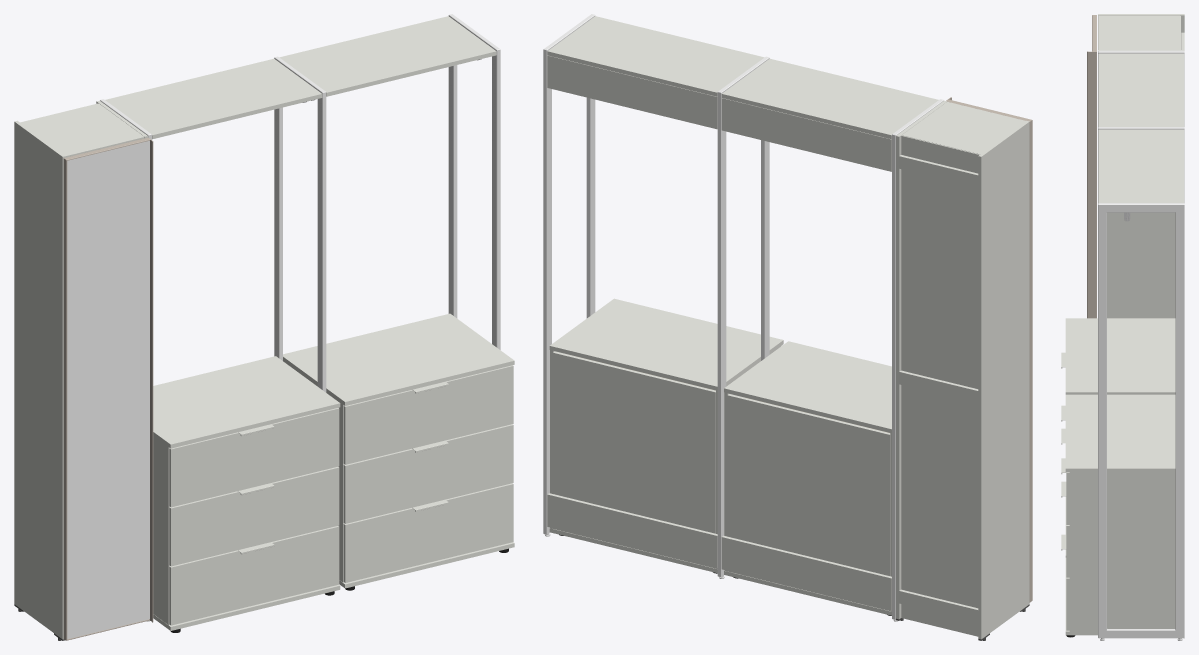
File: dr_sys_m.glb
The picture shows the model from 3 angles, left to right: view 1: azimuth 30°, elevation 25°; view 2: azimuth 150°, elevation 25°; view 3: azimuth 270°, elevation 25°; orthographic projection. The views are drawn at different scales.
Parts seen in each view (by area): view 1: node_311_2_StaticMeshComponent0, node_297_2_StaticMeshComponent0, node_567_2_StaticMeshComponent0, node_730_StaticMeshComponent0, node_579_2_StaticMeshComponent0, node_749_StaticMeshComponent0, node_742_StaticMeshComponent0, node_586_2_StaticMeshComponent0, node_572_2_StaticMeshComponent0, node_735_StaticMeshComponent0, node_561_2_StaticMeshComponent0, node_724_StaticMeshComponent0 (+9 smaller); view 2: node_299_2_StaticMeshComponent0, node_297_2_StaticMeshComponent0, node_733_StaticMeshComponent0, node_570_2_StaticMeshComponent0, node_567_2_StaticMeshComponent0, node_730_StaticMeshComponent0, node_561_2_StaticMeshComponent0, node_724_StaticMeshComponent0, node_641_2_StaticMeshComponent0, node_838_2_StaticMeshComponent0, node_563_2_StaticMeshComponent0, node_726_StaticMeshComponent0 (+11 smaller); view 3: node_569_2_StaticMeshComponent0, node_838_2_StaticMeshComponent0, node_567_2_StaticMeshComponent0, node_730_StaticMeshComponent0, node_298_2_StaticMeshComponent0, node_561_2_StaticMeshComponent0, node_724_StaticMeshComponent0, node_296_2_StaticMeshComponent0, node_310_2_StaticMeshComponent0, node_648_2_StaticMeshComponent0, node_641_2_StaticMeshComponent0, node_571_2_StaticMeshComponent0 (+4 smaller).
Boxes of the visible parts, x1,y1,x2,y2 form: node_311_2_StaticMeshComponent0: [67, 140, 149, 638]; node_297_2_StaticMeshComponent0: [14, 120, 65, 639]; node_567_2_StaticMeshComponent0: [283, 313, 514, 405]; node_730_StaticMeshComponent0: [153, 356, 340, 448]; node_579_2_StaticMeshComponent0: [343, 424, 513, 523]; node_749_StaticMeshComponent0: [169, 526, 339, 625]; node_742_StaticMeshComponent0: [169, 467, 339, 566]; node_586_2_StaticMeshComponent0: [343, 483, 513, 582]; node_572_2_StaticMeshComponent0: [343, 365, 513, 464]; node_735_StaticMeshComponent0: [169, 408, 339, 507]; node_561_2_StaticMeshComponent0: [279, 16, 496, 96]; node_724_StaticMeshComponent0: [105, 58, 322, 139]; node_299_2_StaticMeshComponent0: [901, 135, 979, 636]; node_297_2_StaticMeshComponent0: [978, 120, 1029, 639]; node_733_StaticMeshComponent0: [727, 394, 890, 610]; node_570_2_StaticMeshComponent0: [553, 351, 715, 568]; node_567_2_StaticMeshComponent0: [549, 298, 783, 390]; node_730_StaticMeshComponent0: [724, 341, 891, 433]; node_561_2_StaticMeshComponent0: [547, 16, 764, 96]; node_724_StaticMeshComponent0: [721, 58, 938, 139]; node_641_2_StaticMeshComponent0: [717, 56, 769, 577]; node_838_2_StaticMeshComponent0: [543, 14, 595, 534]; node_563_2_StaticMeshComponent0: [547, 493, 717, 568]; node_726_StaticMeshComponent0: [721, 535, 891, 610]; node_569_2_StaticMeshComponent0: [1069, 472, 1175, 631]; node_838_2_StaticMeshComponent0: [1098, 203, 1184, 638]; node_567_2_StaticMeshComponent0: [1065, 394, 1175, 472]; node_730_StaticMeshComponent0: [1065, 318, 1175, 394]; node_298_2_StaticMeshComponent0: [1098, 50, 1184, 318]; node_561_2_StaticMeshComponent0: [1098, 129, 1184, 202]; node_724_StaticMeshComponent0: [1098, 53, 1184, 126]; node_296_2_StaticMeshComponent0: [1098, 15, 1180, 49]; node_310_2_StaticMeshComponent0: [1087, 51, 1096, 318]; node_648_2_StaticMeshComponent0: [1098, 50, 1184, 126]; node_641_2_StaticMeshComponent0: [1098, 127, 1184, 202]; node_571_2_StaticMeshComponent0: [1065, 558, 1097, 635].
Bounding box in the file's own units: 2.04 × 2.17 × 0.5557.
Materials: 9 (2 with a texture image).
